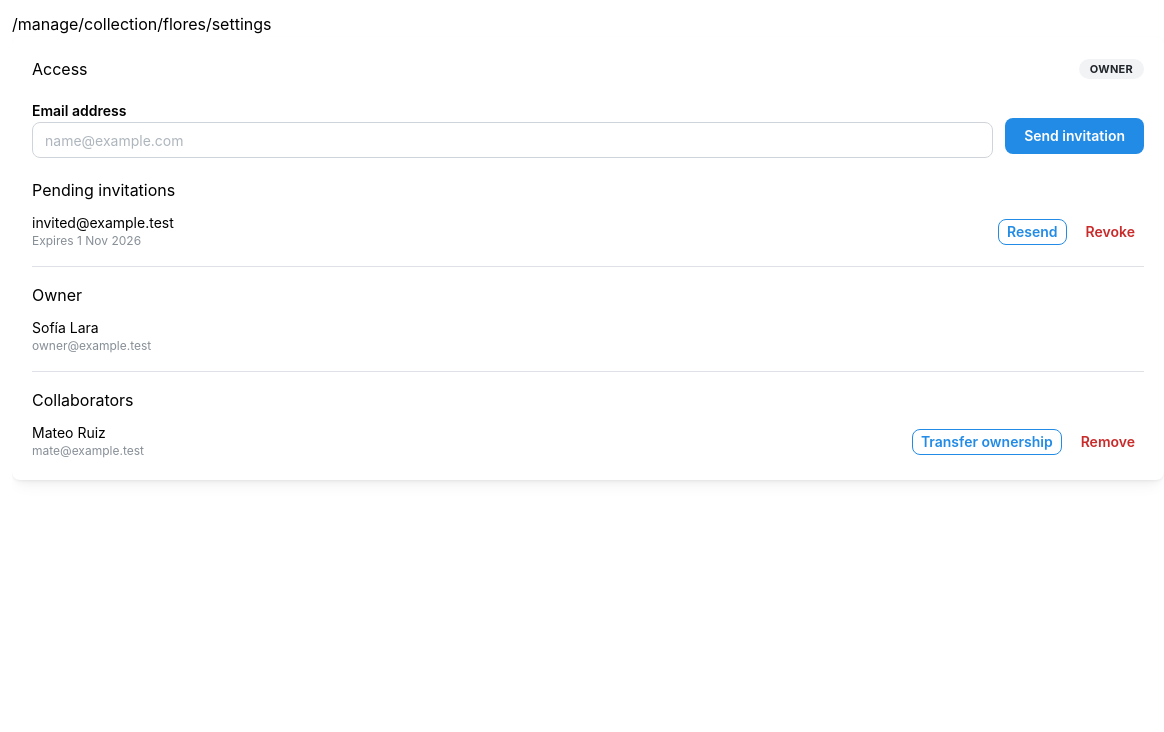
Test: the owner's access card › names the conflict the API reports instead of a generic failure
In the field labelled "Email address": (513, 140) [32,122,993,158], type "invited@example.test"
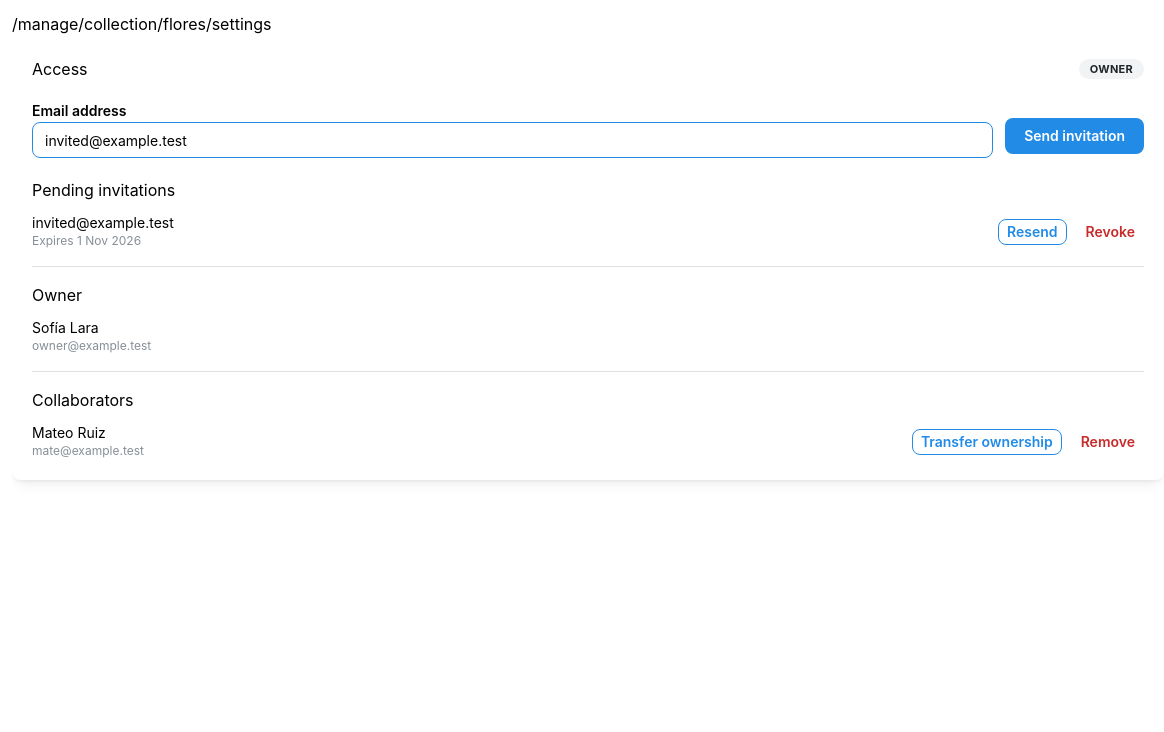
Click the button "Send invitation": (1075, 136) [1005,118,1144,154]
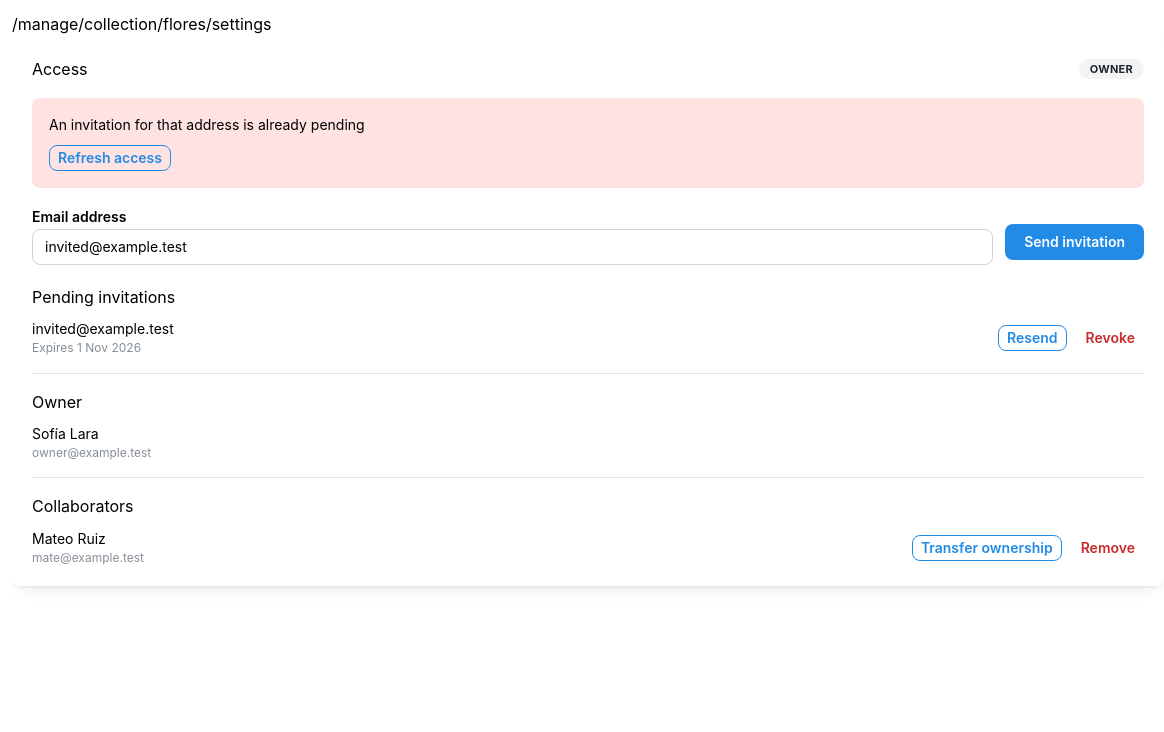
Expected: the text "An invitation for that address is already pending" is shown, [49,116,365,133]
